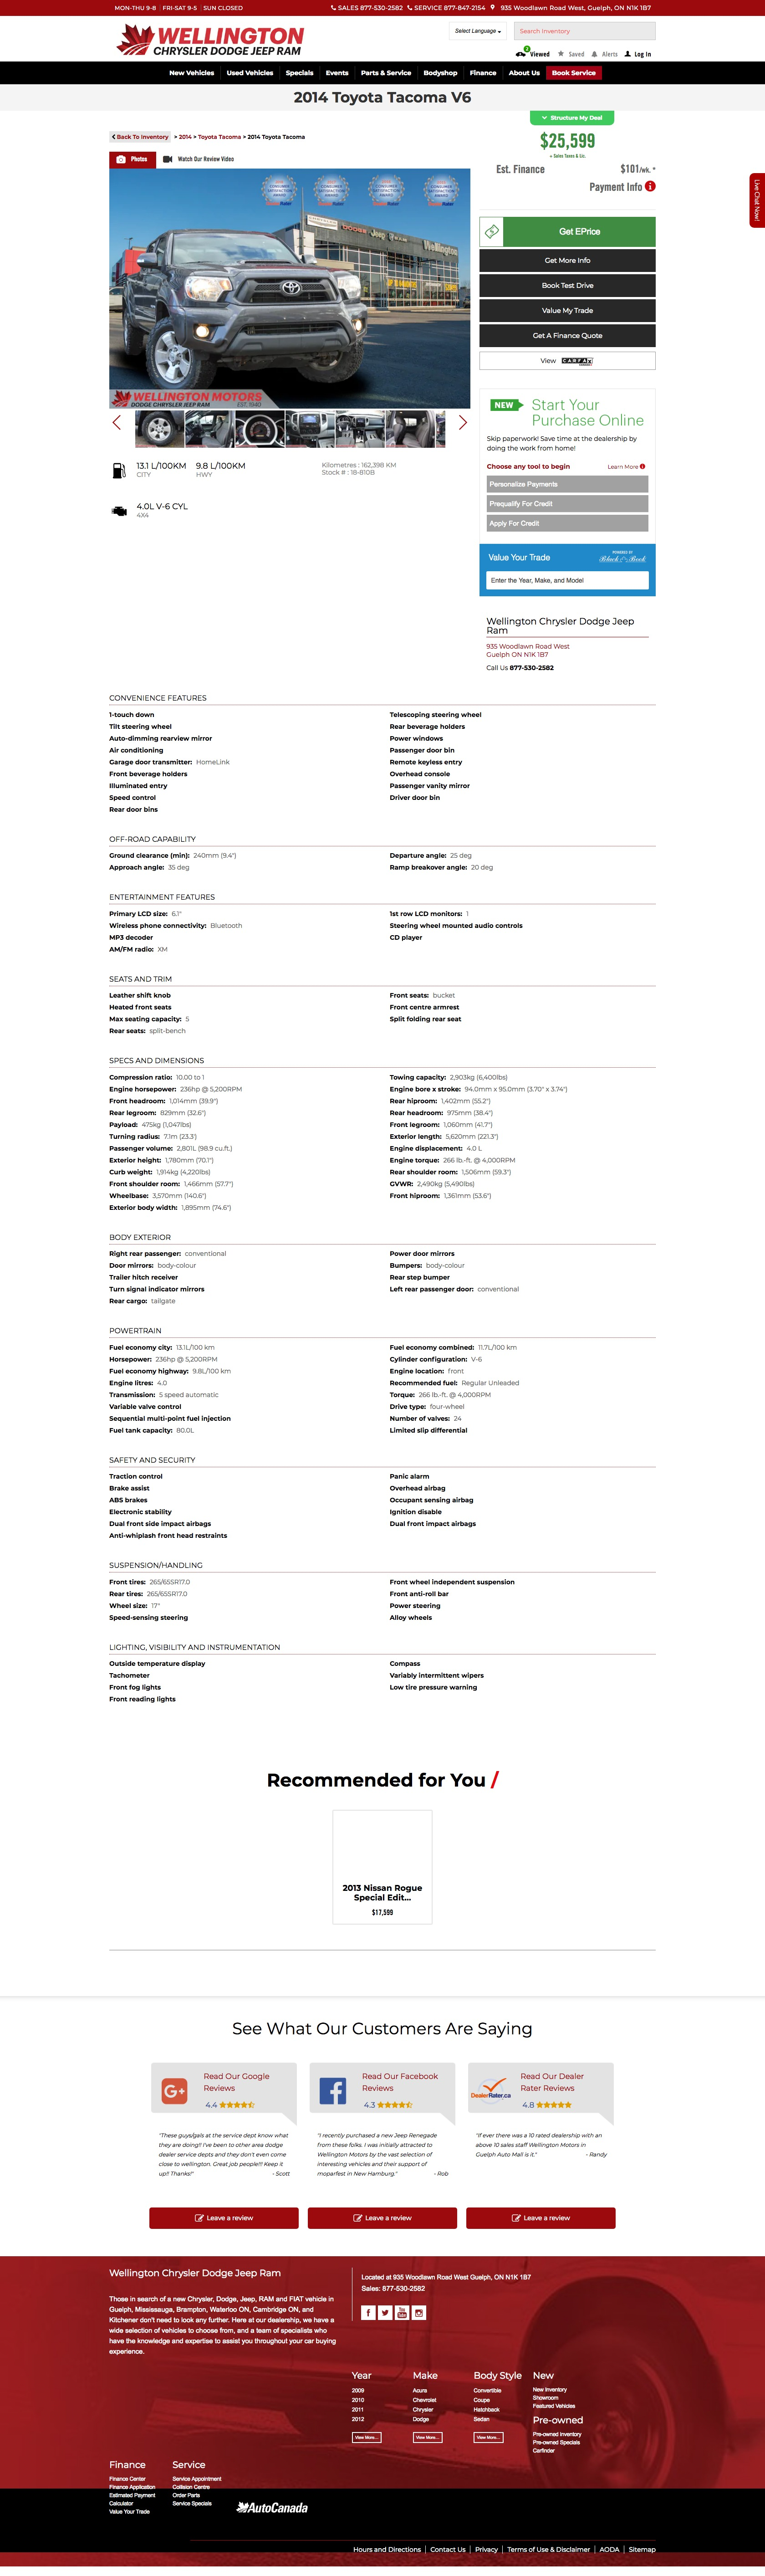car: (460, 416, 468, 430)
